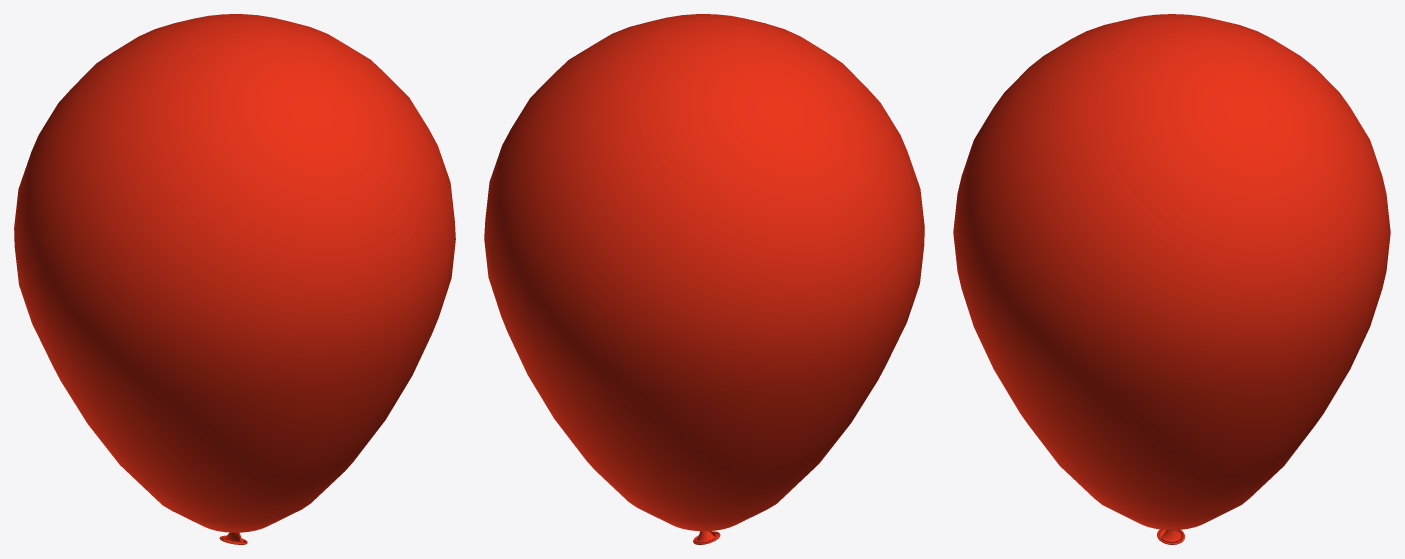
File: Balloon.fbx
3 renders of one model, left to right at view 1: azimuth 30°, elevation 25°; view 2: azimuth 150°, elevation 25°; view 3: azimuth 270°, elevation 25°, orthographic.
Parts seen in each view (by area): view 1: 구체; view 2: 구체; view 3: 구체.
Part boxes in pixels (x1,y1,x2,y2): 구체: (14, 14, 455, 544); 구체: (484, 14, 924, 544); 구체: (953, 14, 1390, 544).
Size of the model in its own units: 203 by 255 by 200.
